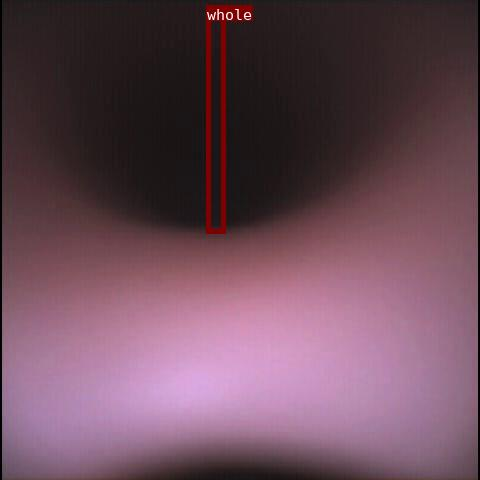whole: (206, 5, 225, 233)
